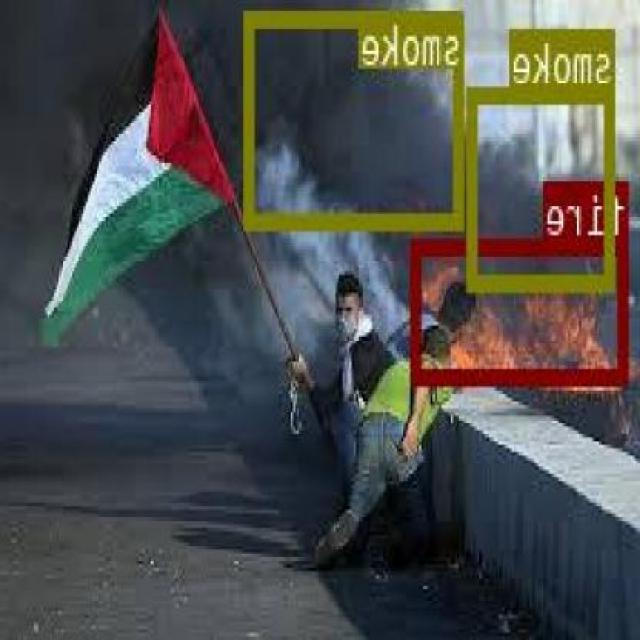Fire: (413, 236, 630, 382)
Smoke: (248, 8, 464, 225), (469, 84, 617, 287)
